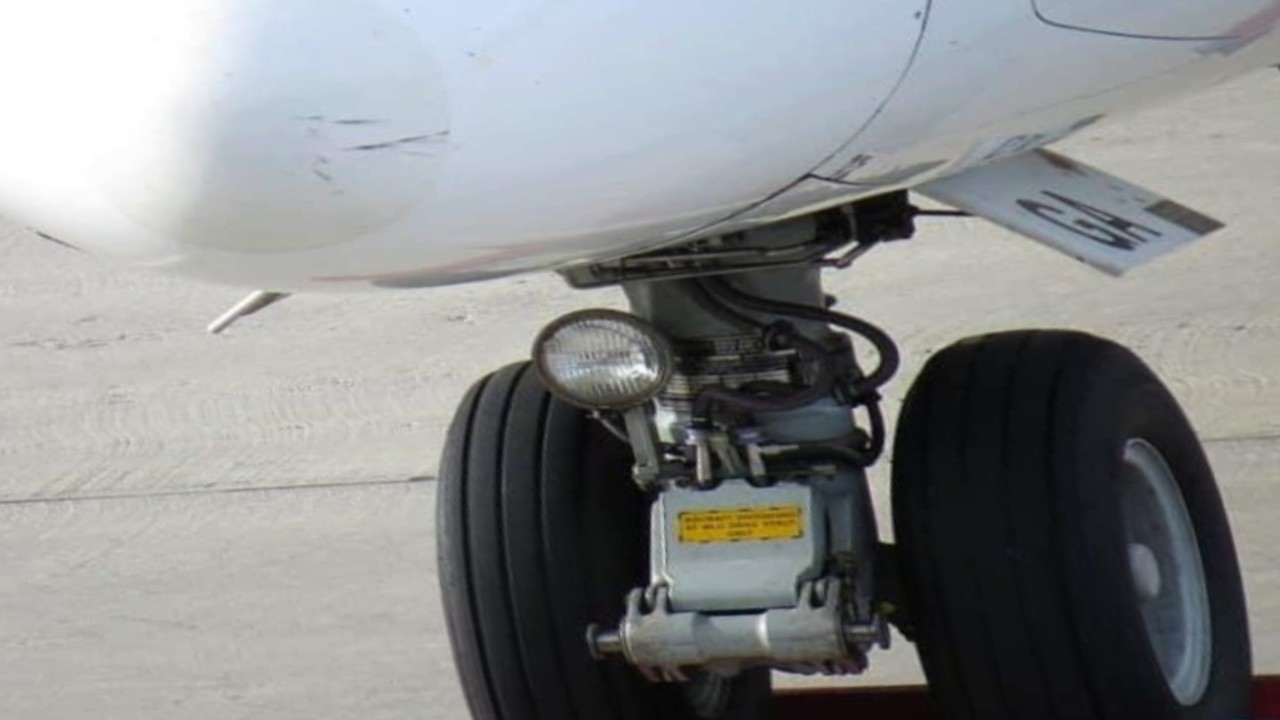chock: (680, 590, 1280, 720)
wheel: (839, 305, 1280, 720), (383, 332, 776, 720)
